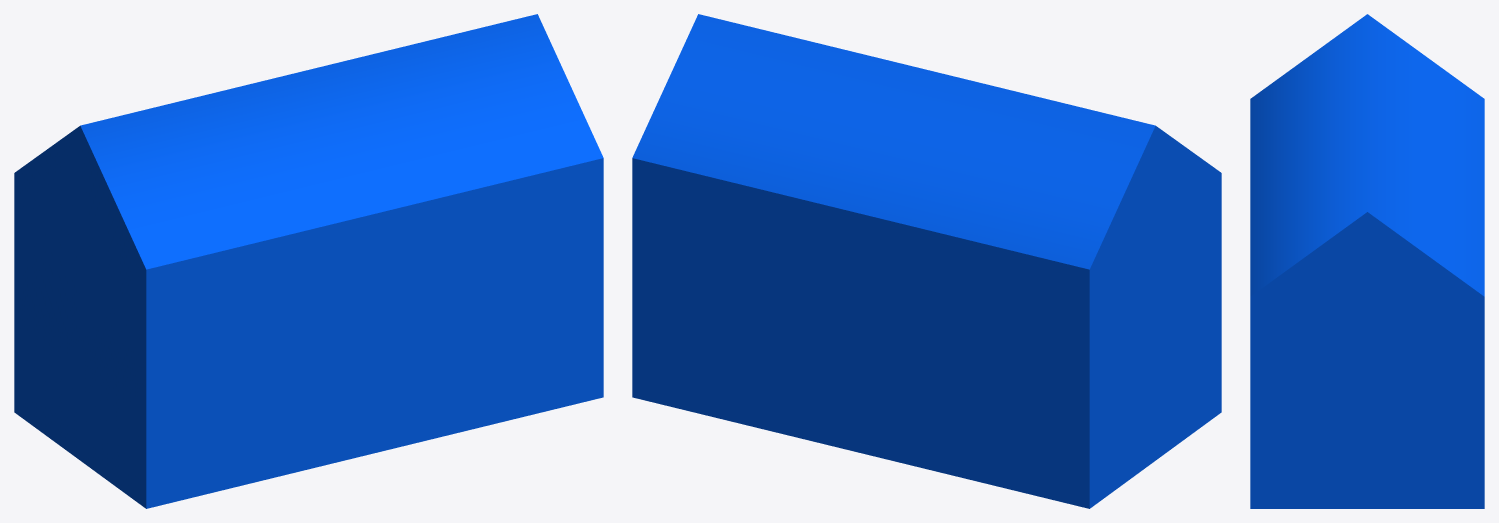
File: House2.FBX
3 renders of one model, left to right at view 1: azimuth 30°, elevation 25°; view 2: azimuth 150°, elevation 25°; view 3: azimuth 270°, elevation 25°, orthographic. The views are drawn at different scales.
Visible parts, largest first — view 1: Box; view 2: Box; view 3: Box.
Part boxes in pixels (bbox=[...]): Box: bbox=[14, 14, 603, 508]; Box: bbox=[632, 14, 1221, 508]; Box: bbox=[1250, 14, 1484, 508].
Size of the model in its own units: 50.8 by 35.56 by 25.4.
